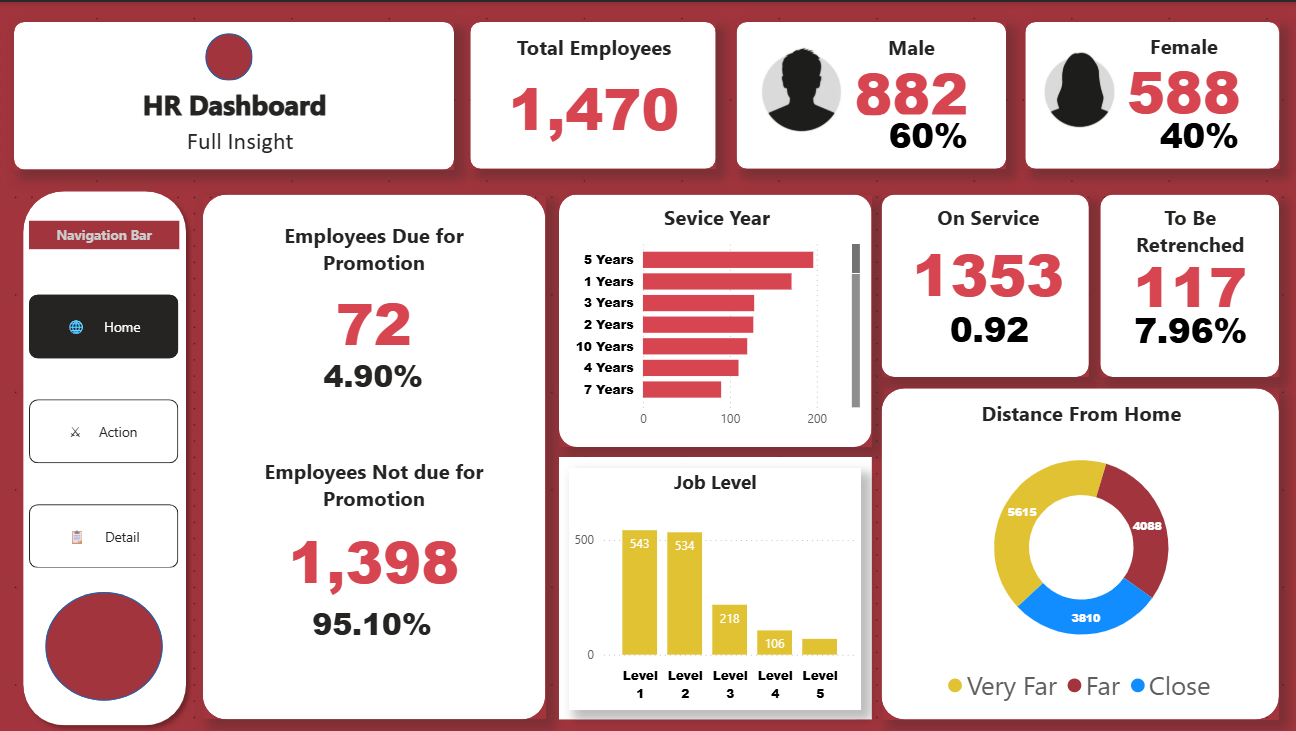

Layout of this report page (visuals, bound fields, positions):
{"tool":"powerbi","page":{"name":"🌐     Home","canvas":[1280,720],"ordinal":0},"visuals":[{"type":"shape","box":[14.8,177.2,178.5,544],"z":0},{"type":"shape","box":[14.8,19.7,433.2,145.2],"z":1000},{"type":"shape","box":[464.6,20.1,241.8,144.6],"z":2000},{"type":"shape","box":[726.5,20.1,265.5,144.6],"z":3000},{"type":"shape","box":[1011,20.1,250.1,144.6],"z":4000},{"type":"shape","box":[200.6,189.5,337.2,516.9],"z":5000},{"type":"shape","box":[551.4,189.5,307.7,248.6],"z":6000},{"type":"shape","box":[551.4,448,307.7,258.5],"z":7000},{"type":"shape","box":[868.9,189.5,204.3,179.7],"z":8000},{"type":"shape","box":[1084.3,189.5,176,179.7],"z":9000},{"type":"shape","box":[868.9,380.3,391.4,326.2],"z":10000},{"type":"textbox","box":[29.5,77.5,404.9,59.1],"z":11000},{"type":"textbox","box":[75.1,116.9,324.9,46.8],"z":12000},{"type":"shape","box":[203.1,30.8,46.8,46.8],"z":13000},{"type":"card","title":"Total Employees","fields":{"Values":["All Measures.Total Emp"]},"box":[475.1,30.8,221.5,116.9],"z":14000},{"type":"card","title":"Male","fields":{"Values":["All Measures.Male"]},"box":[813.5,30.8,169.8,86.2],"z":15000},{"type":"card","fields":{"Values":["All Measures.% Male"]},"box":[868.9,110.8,92.3,41.8],"z":16000},{"type":"card","title":"Female","fields":{"Values":["All Measures.Female"]},"box":[1073.2,29.5,187.1,86.2],"z":17000},{"type":"card","fields":{"Values":["All Measures.% Female"]},"box":[1136,110.8,92.3,41.8],"z":18000},{"type":"image","box":[742.2,39.4,96,97.2],"z":19000},{"type":"image","box":[1017.8,39.4,92.3,92.3],"z":20000},{"type":"card","title":"Employees Due for Promotion","fields":{"Values":["All Measures.Due Promotion"]},"box":[226.5,215.4,285.5,145.2],"z":21000},{"type":"card","fields":{"Values":["All Measures.% Due"]},"box":[286.8,345.8,163.7,45.5],"z":22000},{"type":"card","title":"Employees Not due for Promotion","fields":{"Values":["All Measures.Not Due"]},"box":[226.5,448,285.5,147.7],"z":23000},{"type":"card","fields":{"Values":["All Measures.% Not Due"]},"box":[300.3,587.1,134.2,51.7],"z":24000},{"type":"barChart","title":"Sevice Year","fields":{"Y":["CountNonNull(HR Analytics Data.Job Level)"],"Category":["HR Analytics Data.Service Year"]},"box":[561.2,198.2,291.7,230.2],"z":25000},{"type":"columnChart","title":"Job Level","fields":{"Category":["HR Analytics Data.Job Level"],"Y":["All Measures.Total Employee"]},"box":[561.2,459.1,288,238.8],"z":26000},{"type":"card","title":"On Service","fields":{"Values":["All Measures.Retrenchment Status"]},"box":[886.2,198.2,176,108.3],"z":27000},{"type":"card","fields":{"Values":["All Measures.% Safe"]},"box":[902.2,300.3,146.5,44.3],"z":28000},{"type":"card","title":"To Be Retrenched","fields":{"Values":["All Measures.Retrenced"]},"box":[1091.7,198.2,162.5,108.3],"z":29000},{"type":"card","fields":{"Values":["All Measures.%Retrenched"]},"box":[1111.4,300.3,124.3,46.8],"z":30000},{"type":"donutChart","title":"Distance From Home","fields":{"Y":["Sum(HR Analytics Data.DistanceFromHome)"],"Category":["HR Analytics Data.DistancefromOffice"]},"box":[877.5,391.4,376.6,306.5],"z":31000},{"type":"shape","box":[45.5,580.9,115.7,107.1],"z":39000},{"type":"textbox","box":[29.5,215.4,147.7,28.3],"z":40000},{"type":"pageNavigator","box":[29.5,288,147.7,269.5],"z":40001}]}

Visuals, with their boxes in screenshot pixels (x1, y1, x2, y2), scaled from the page's 1280x720 canvas onto the 1296x731 screenshot:
shape: x1=15, y1=180, x2=196, y2=730
shape: x1=15, y1=20, x2=454, y2=167
shape: x1=470, y1=20, x2=715, y2=167
shape: x1=736, y1=20, x2=1004, y2=167
shape: x1=1024, y1=20, x2=1277, y2=167
shape: x1=203, y1=192, x2=545, y2=717
shape: x1=558, y1=192, x2=870, y2=445
shape: x1=558, y1=455, x2=870, y2=717
shape: x1=880, y1=192, x2=1087, y2=375
shape: x1=1098, y1=192, x2=1276, y2=375
shape: x1=880, y1=386, x2=1276, y2=717
textbox: x1=30, y1=79, x2=440, y2=139
textbox: x1=76, y1=119, x2=405, y2=166
shape: x1=206, y1=31, x2=253, y2=79
"Total Employees" card: x1=481, y1=31, x2=705, y2=150
"Male" card: x1=824, y1=31, x2=996, y2=119
card - All Measures.% Male: x1=880, y1=112, x2=973, y2=155
"Female" card: x1=1087, y1=30, x2=1276, y2=117
card - All Measures.% Female: x1=1150, y1=112, x2=1244, y2=155
image: x1=751, y1=40, x2=849, y2=139
image: x1=1031, y1=40, x2=1124, y2=134
"Employees Due for Promotion" card: x1=229, y1=219, x2=518, y2=366
card - All Measures.% Due: x1=290, y1=351, x2=456, y2=397
"Employees Not due for Promotion" card: x1=229, y1=455, x2=518, y2=605
card - All Measures.% Not Due: x1=304, y1=596, x2=440, y2=649
"Sevice Year" barChart: x1=568, y1=201, x2=864, y2=435
"Job Level" columnChart: x1=568, y1=466, x2=860, y2=709
"On Service" card: x1=897, y1=201, x2=1075, y2=311
card - All Measures.% Safe: x1=913, y1=305, x2=1062, y2=350
"To Be Retrenched" card: x1=1105, y1=201, x2=1270, y2=311
card - All Measures.%Retrenched: x1=1125, y1=305, x2=1251, y2=352
"Distance From Home" donutChart: x1=888, y1=397, x2=1270, y2=709
shape: x1=46, y1=590, x2=163, y2=699
textbox: x1=30, y1=219, x2=179, y2=247
pageNavigator: x1=30, y1=292, x2=179, y2=566
